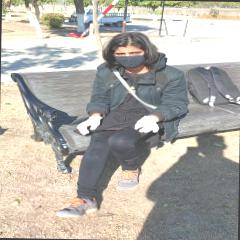gloved: (76, 116, 104, 135), (133, 117, 158, 132)
